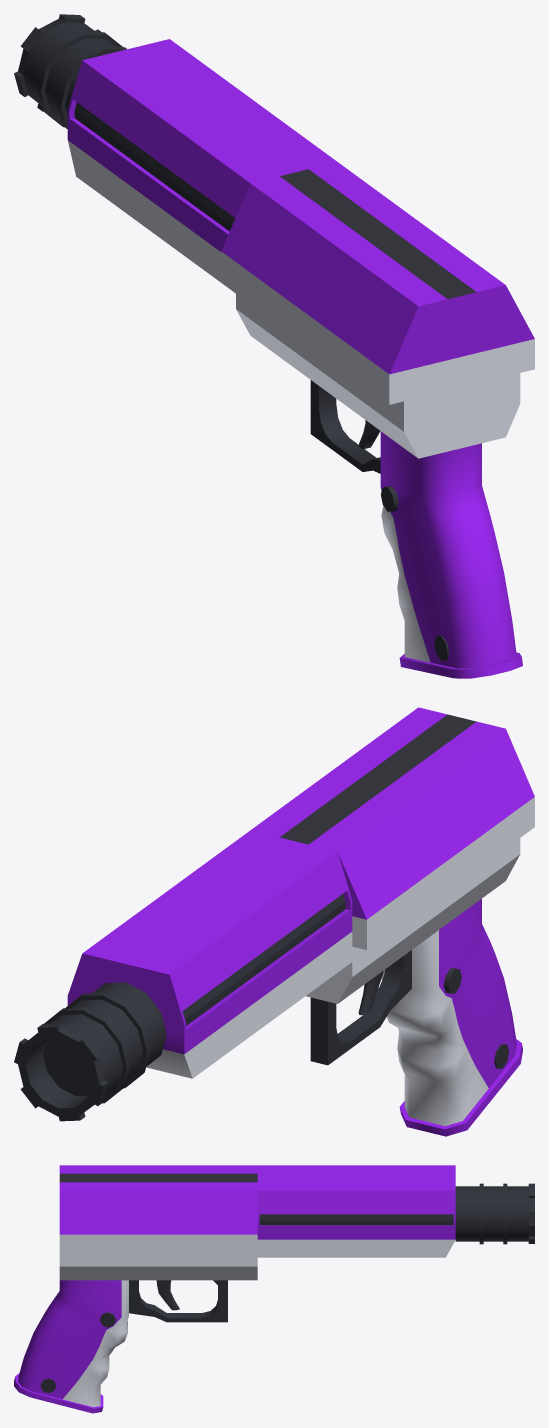
File: Enemy_Gun.glb
3 renders of one model, top to bottom at view 1: azimuth 30°, elevation 25°; view 2: azimuth 150°, elevation 25°; view 3: azimuth 270°, elevation 25°, orthographic. The views are drawn at different scales.
Visible parts, largest first — view 1: mergedBlocks(Clone); view 2: mergedBlocks(Clone); view 3: mergedBlocks(Clone).
Part boxes in pixels (box(x1,y1,x2,y2)): mergedBlocks(Clone): box(14, 14, 534, 678); mergedBlocks(Clone): box(14, 707, 534, 1136); mergedBlocks(Clone): box(14, 1165, 534, 1413).
Bounding box in the file's own units: 0.5 × 1.27 × 2.63.
